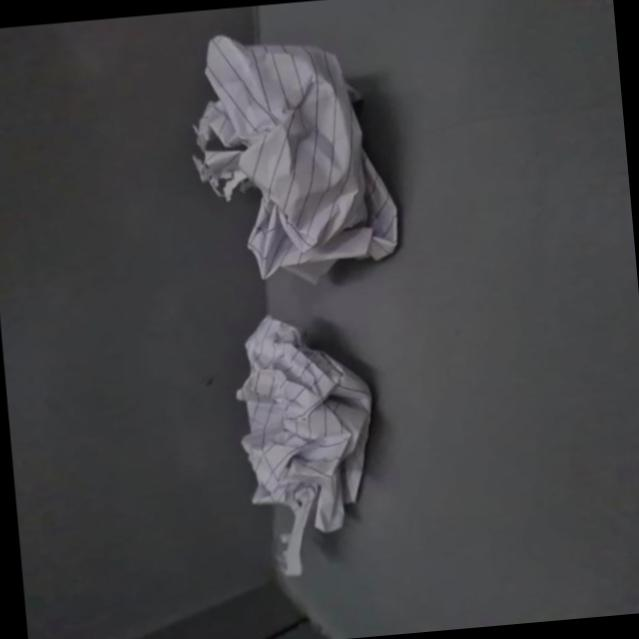cardboard paper: (192, 33, 395, 280), (235, 314, 369, 573)
